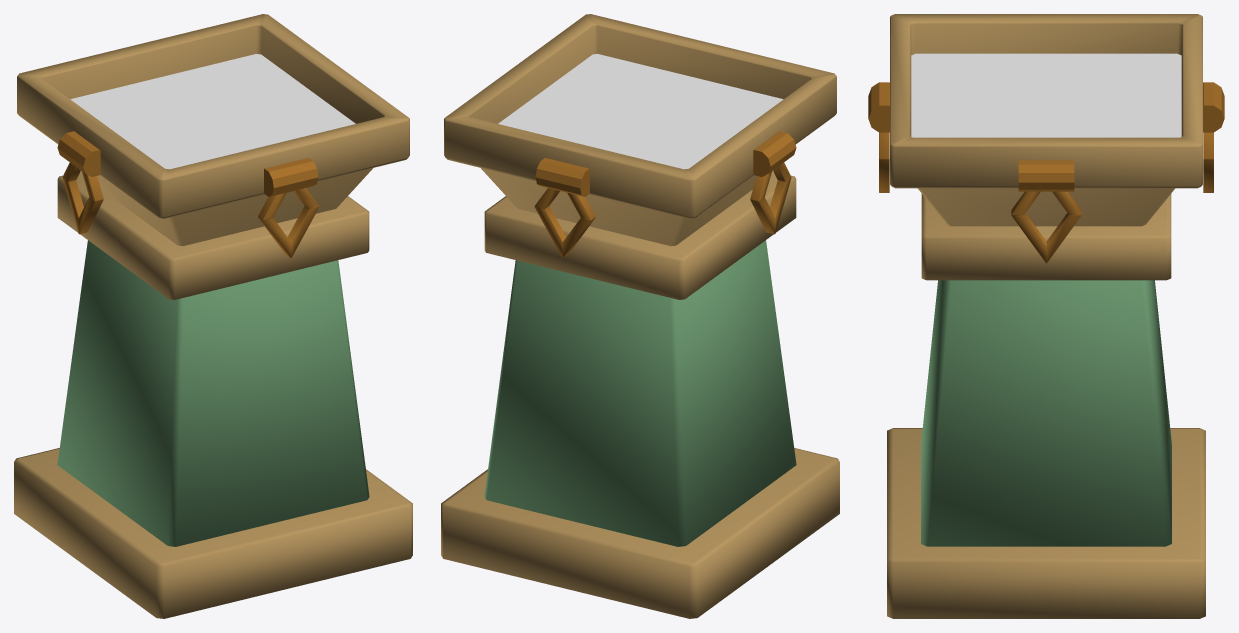
The model's file is FBX_HolyBowl_02.fbx.
3 views of the same model, side by side, from view 1: azimuth 30°, elevation 25°; view 2: azimuth 150°, elevation 25°; view 3: azimuth 270°, elevation 25° (orthographic). The views are drawn at different scales.
Visible parts, largest first — view 1: Cube.002; view 2: Cube.002; view 3: Cube.002.
Part boxes in pixels (left/top/right/bottom): Cube.002: left=14, top=14, right=412, bottom=618; Cube.002: left=441, top=14, right=839, bottom=618; Cube.002: left=868, top=14, right=1224, bottom=618.
Bounding box in the file's own units: 125 × 184 × 125.
